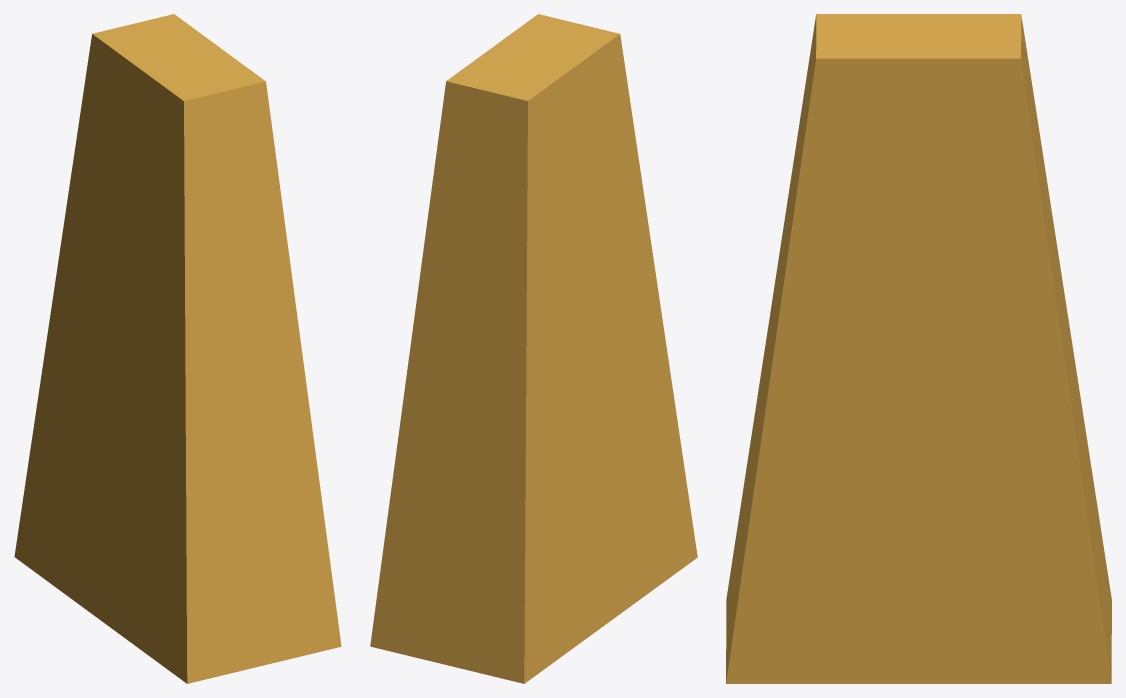
Rendered from Pillar01_mesh.fbx.
The picture shows the model from 3 angles, left to right: view 1: azimuth 30°, elevation 25°; view 2: azimuth 150°, elevation 25°; view 3: azimuth 270°, elevation 25°; orthographic projection. The views are drawn at different scales.
Visible parts, largest first — view 1: Pillar01_mesh; view 2: Pillar01_mesh; view 3: Pillar01_mesh.
Boxes of the visible parts, x1,y1,x2,y2 form: Pillar01_mesh: [14, 14, 341, 683]; Pillar01_mesh: [370, 14, 697, 683]; Pillar01_mesh: [726, 14, 1111, 683].
Bounding box in the file's own units: 968 × 3259 × 1879.
